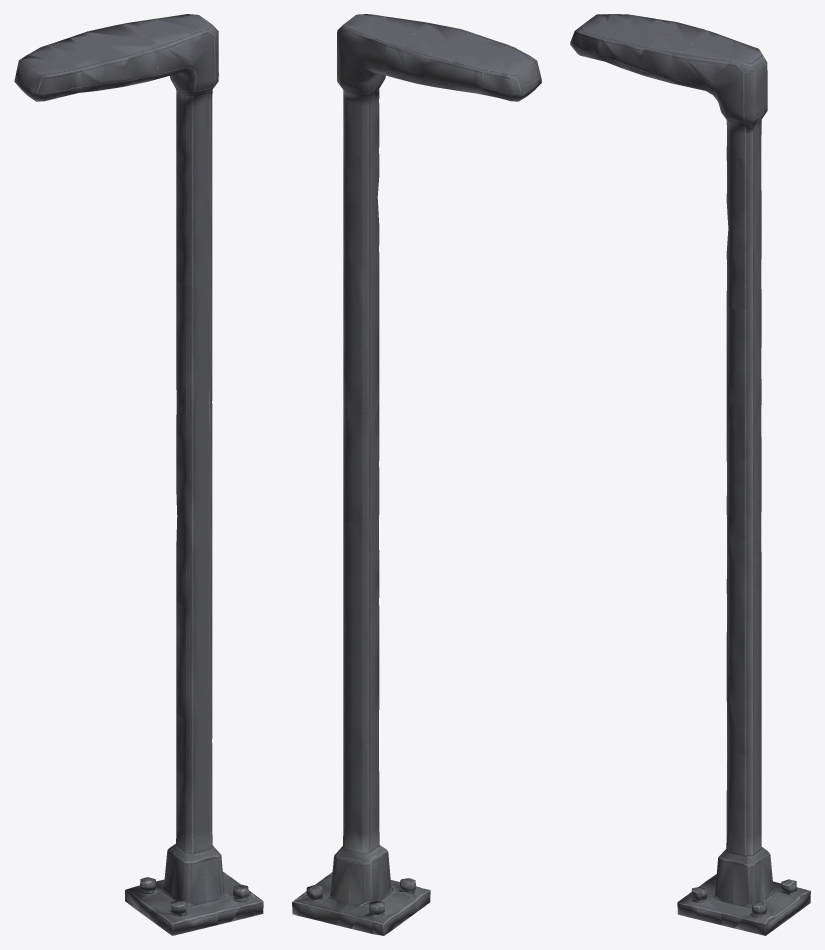
Rendered from lamp.glb.
The picture shows the model from 3 angles, left to right: view 1: azimuth 30°, elevation 25°; view 2: azimuth 150°, elevation 25°; view 3: azimuth 330°, elevation 25°; orthographic projection. The views are drawn at different scales.
Visible parts, largest first — view 1: mesh_node; view 2: mesh_node; view 3: mesh_node.
Part boxes in pixels (x1=…): mesh_node: x1=14, y1=14, x2=263, y2=935; mesh_node: x1=292, y1=14, x2=541, y2=935; mesh_node: x1=570, y1=14, x2=810, y2=935.
Bounding box in the file's own units: 0.4894 × 1.9 × 0.1852.
Materials: 1 (1 with a texture image).
